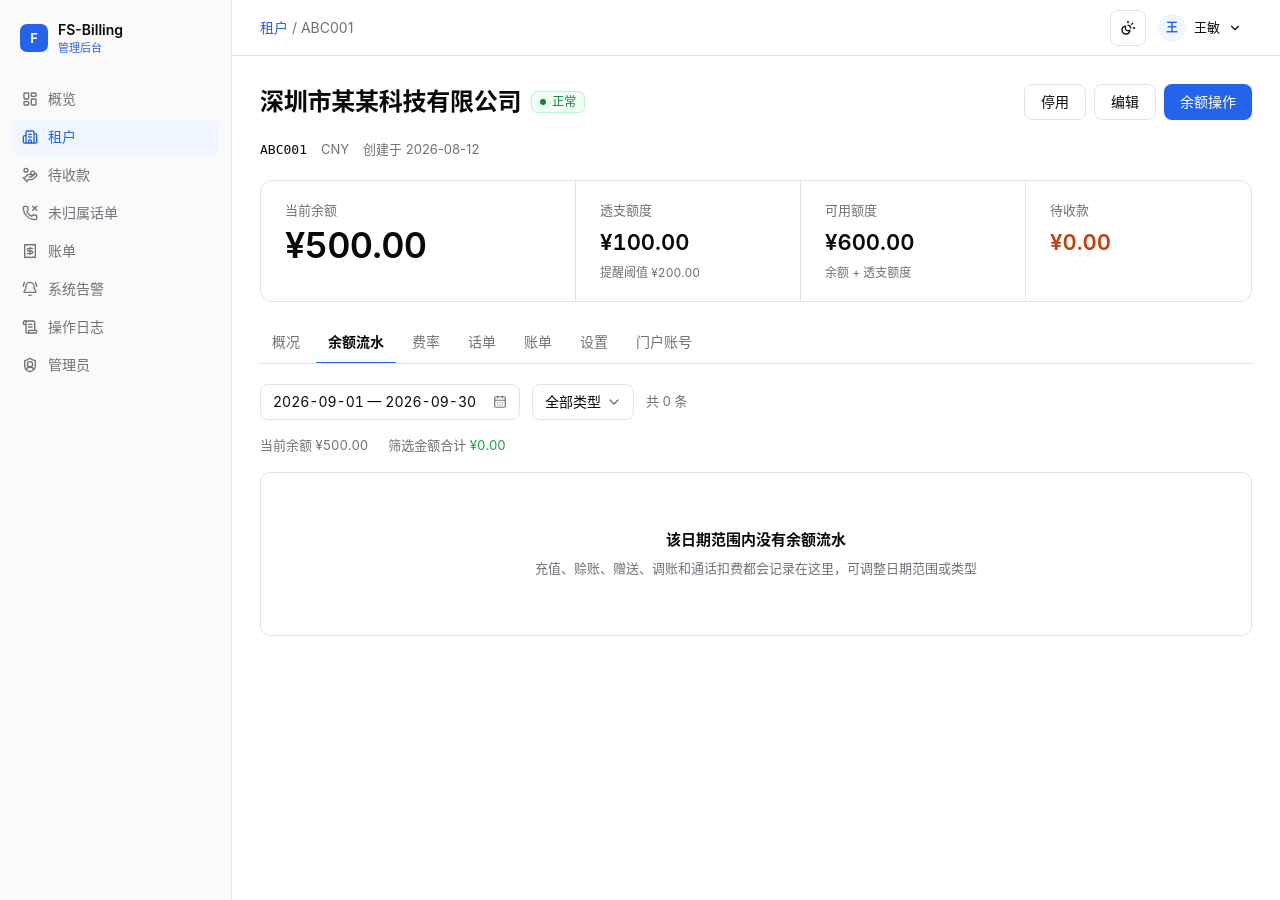
Scenario: ledger tab filters › blocks an overlong end when selecting the range in reverse
Expected: the text "该日期范围内没有余额流水" is shown, x1=666 y1=528 x2=846 y2=551
What coordinates should you click on to do the following:
click the button "2026-09-01 — 2026-09-30"
I would click on:
 (390, 402)
Its box is x1=260 y1=384 x2=520 y2=420.
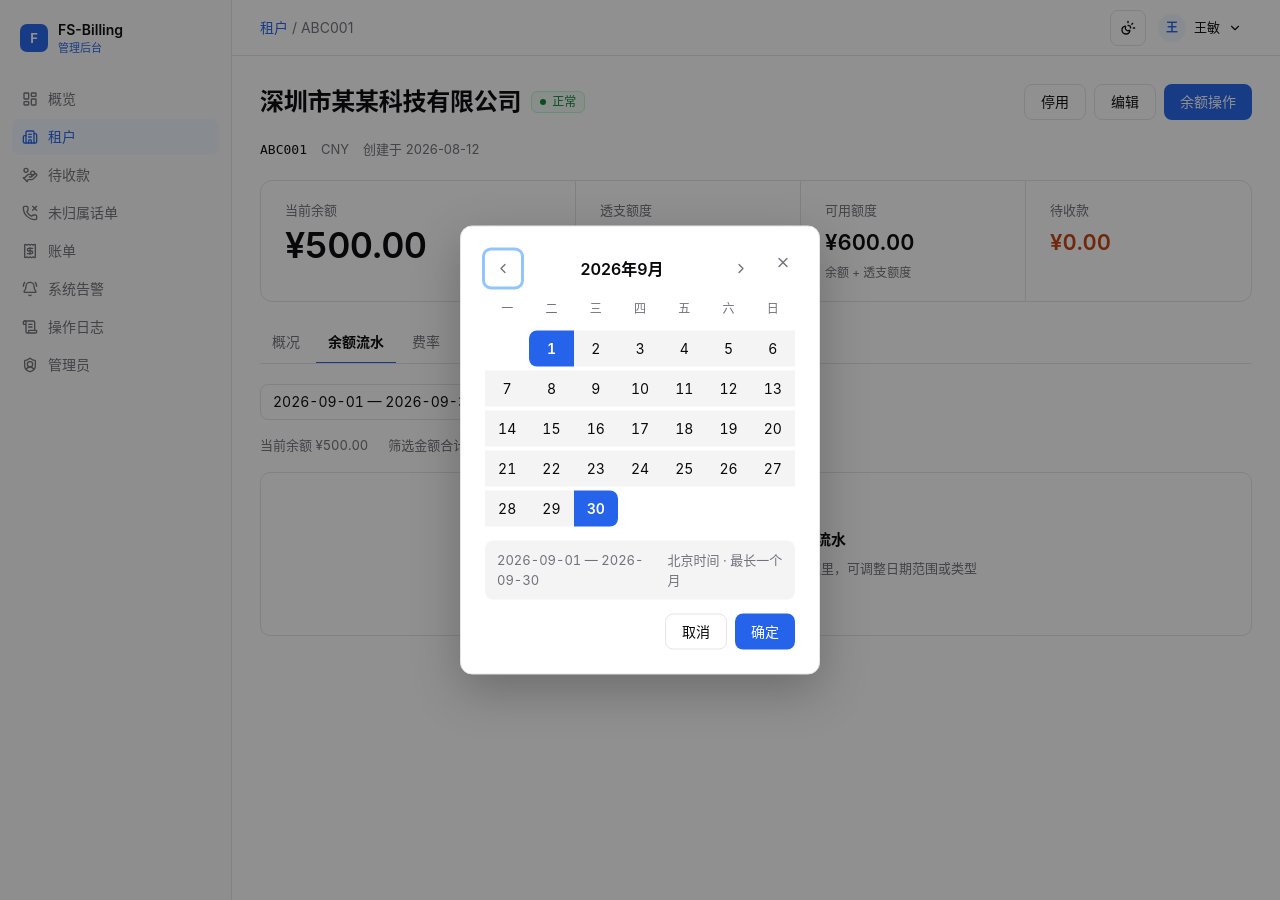
What coordinates should you click on to do the following:
click the button named "2026-09-30"
I would click on:
 (596, 508)
Its box is x1=574 y1=490 x2=618 y2=526.
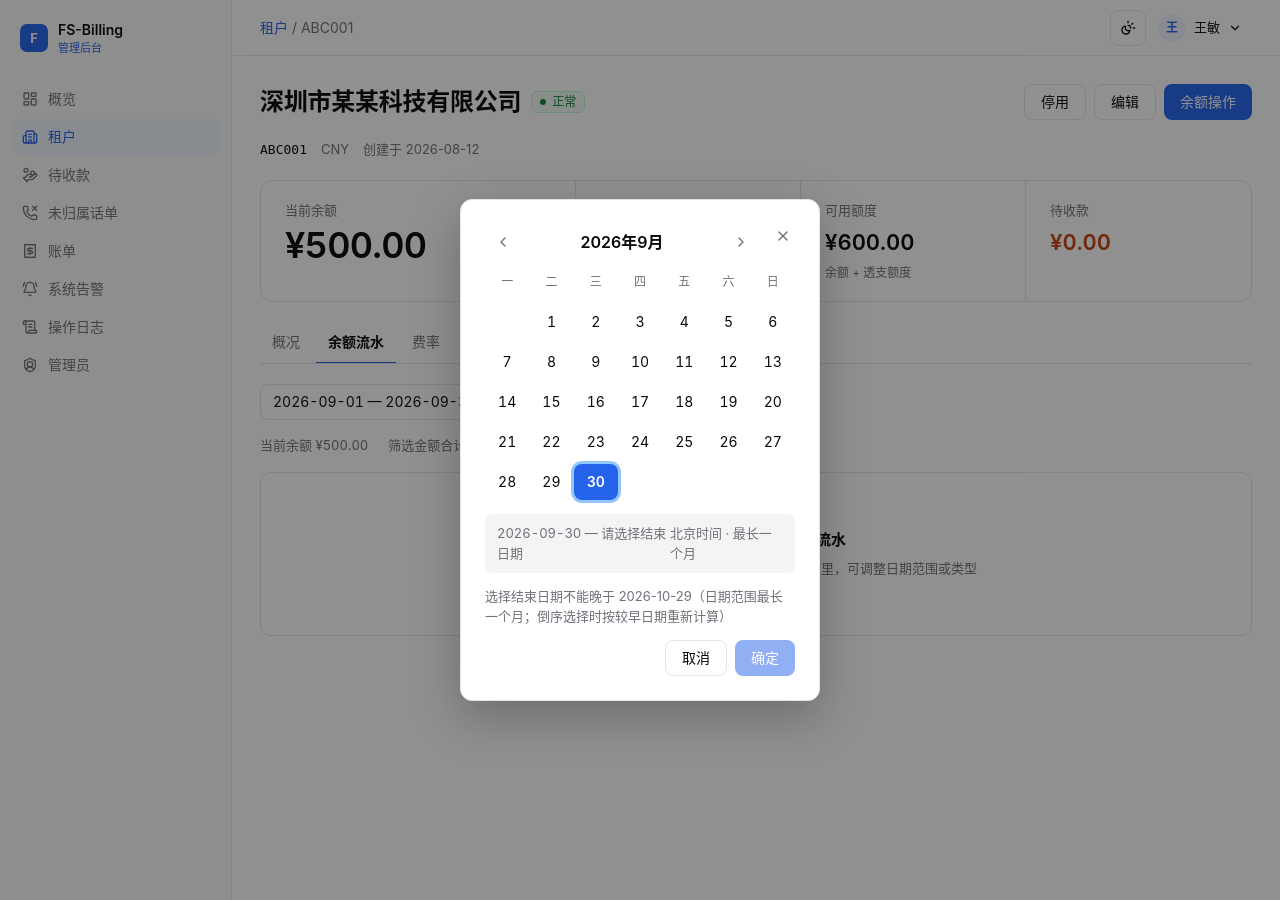
What coordinates should you click on to do the following:
click the button named "上个月"
I would click on:
 (503, 242)
Its box is x1=485 y1=224 x2=521 y2=260.
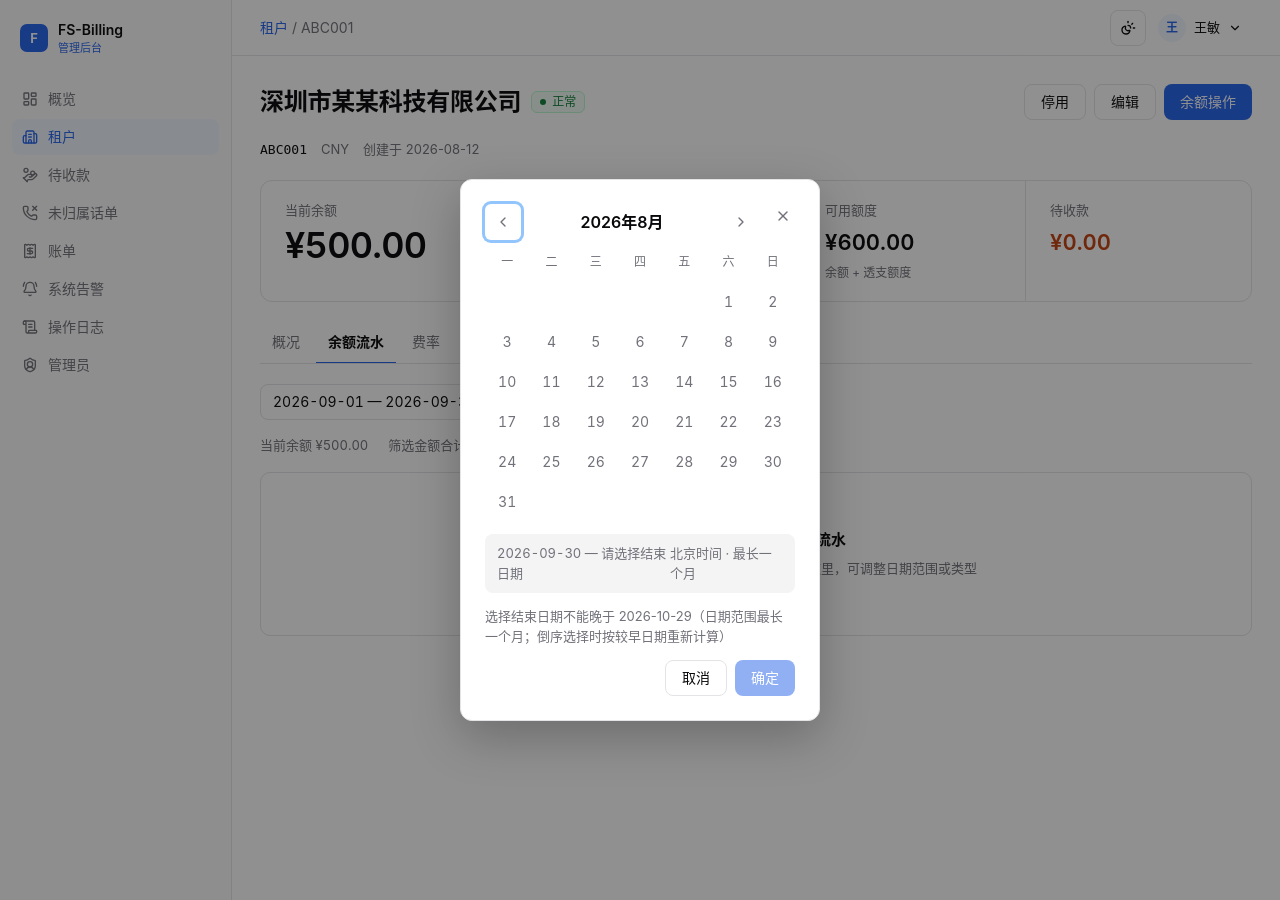
Result: the message shows "日期范围最长一个月" at x1=485 y1=608 x2=783 y2=644
Result: the message shows "倒序选择时按较早日期重新计算" at x1=485 y1=608 x2=783 y2=644
Result: the button named "2026-08-30" is disabled at x1=751 y1=444 x2=795 y2=480
